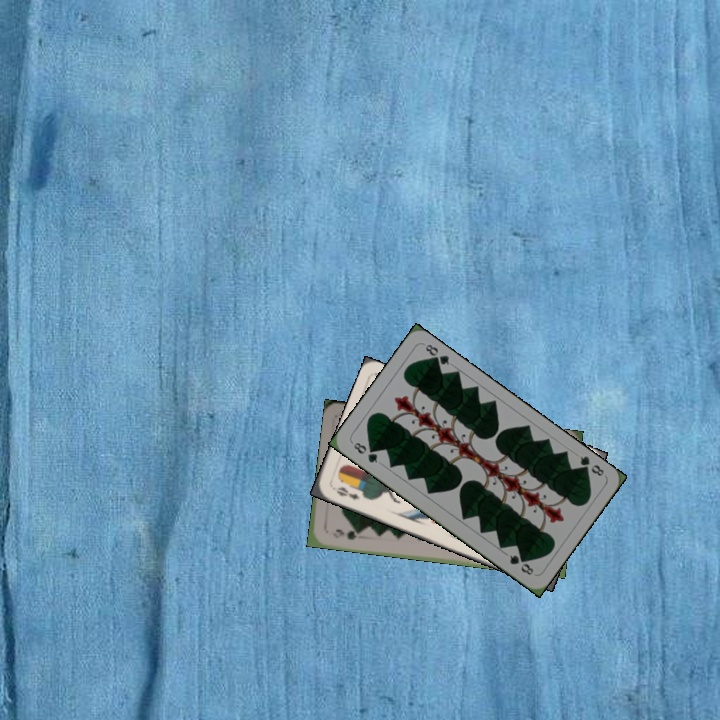EO: (332, 483, 362, 502)
G8: (348, 437, 380, 466), (575, 452, 607, 479)
G9: (329, 525, 364, 542)
